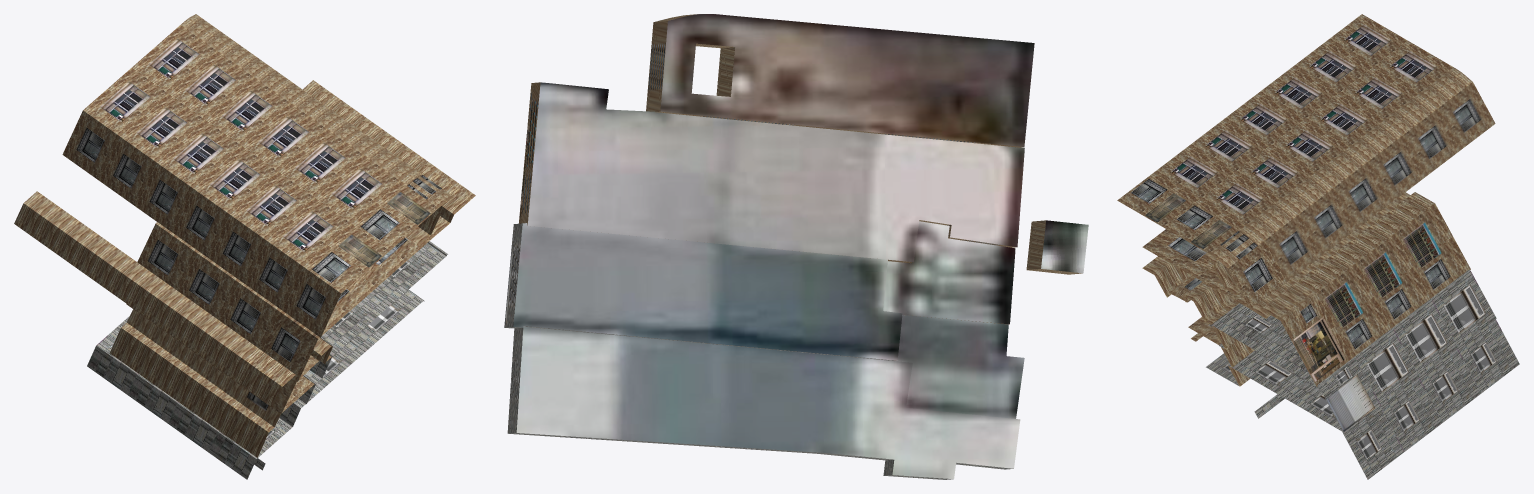
3 views of the same model, side by side, from view 1: azimuth 30°, elevation 25°; view 2: azimuth 150°, elevation 25°; view 3: azimuth 270°, elevation 25° (orthographic). The views are drawn at different scales.
Bounding box in the file's own units: 31.43 × 26.97 × 27.81.
Materials: 24 (24 with a texture image).
